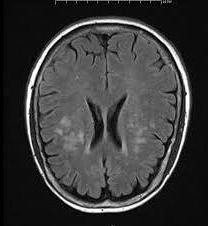Normal_Brain: (1, 1, 208, 226)
